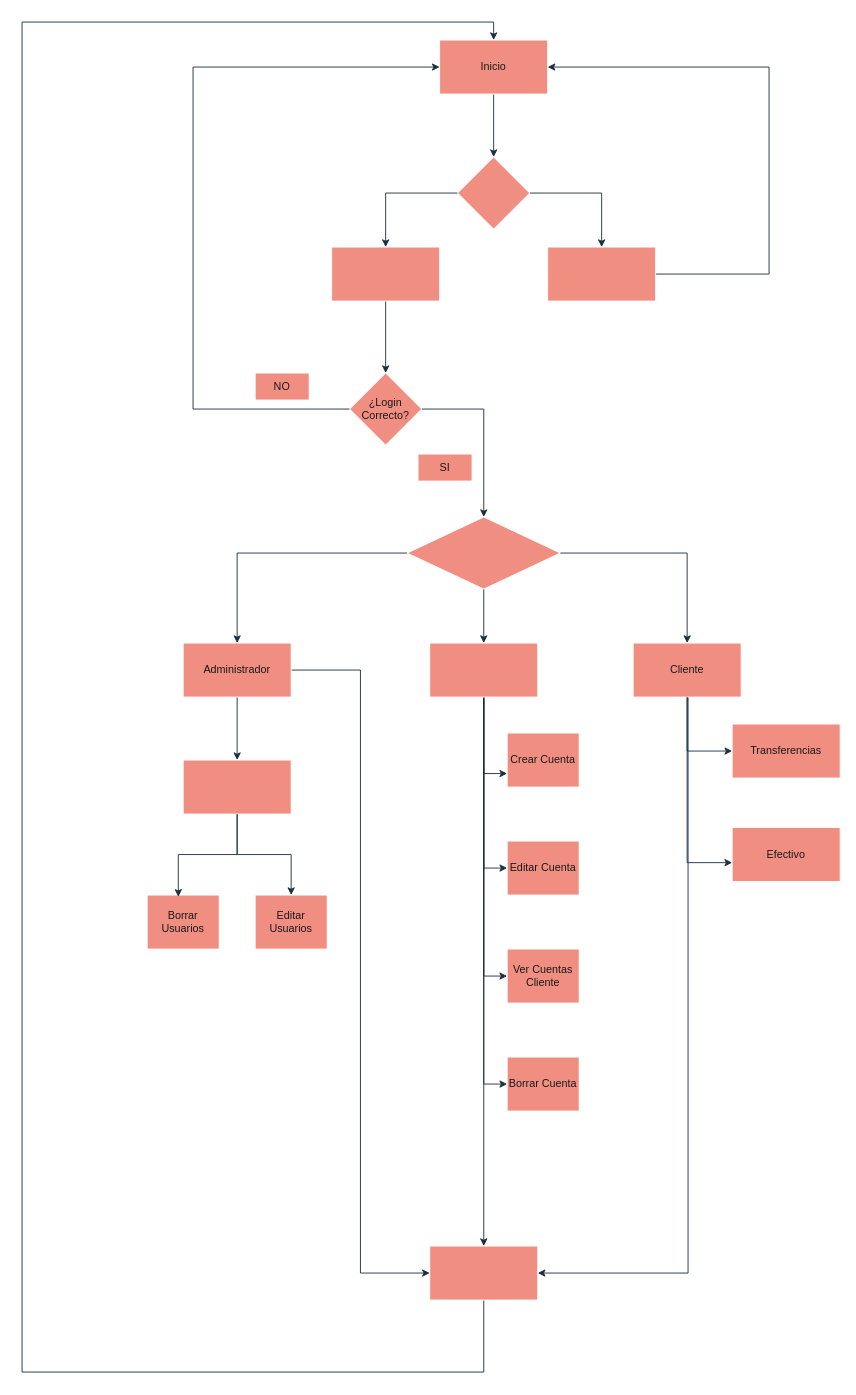
This 856x1395 diagram has some shape labels left out. Here are the shapes that lost their labels. From the top down, the centre of each, then its label:
At (x=493, y=192): "Elije opción".
At (x=385, y=273): "Login".
At (x=601, y=273): "Register".
At (x=483, y=552): "Comprobar rol".
At (x=483, y=669): "Empleado".
At (x=236, y=786): "Administrar Usuarios".
At (x=483, y=1272): "Logout".
